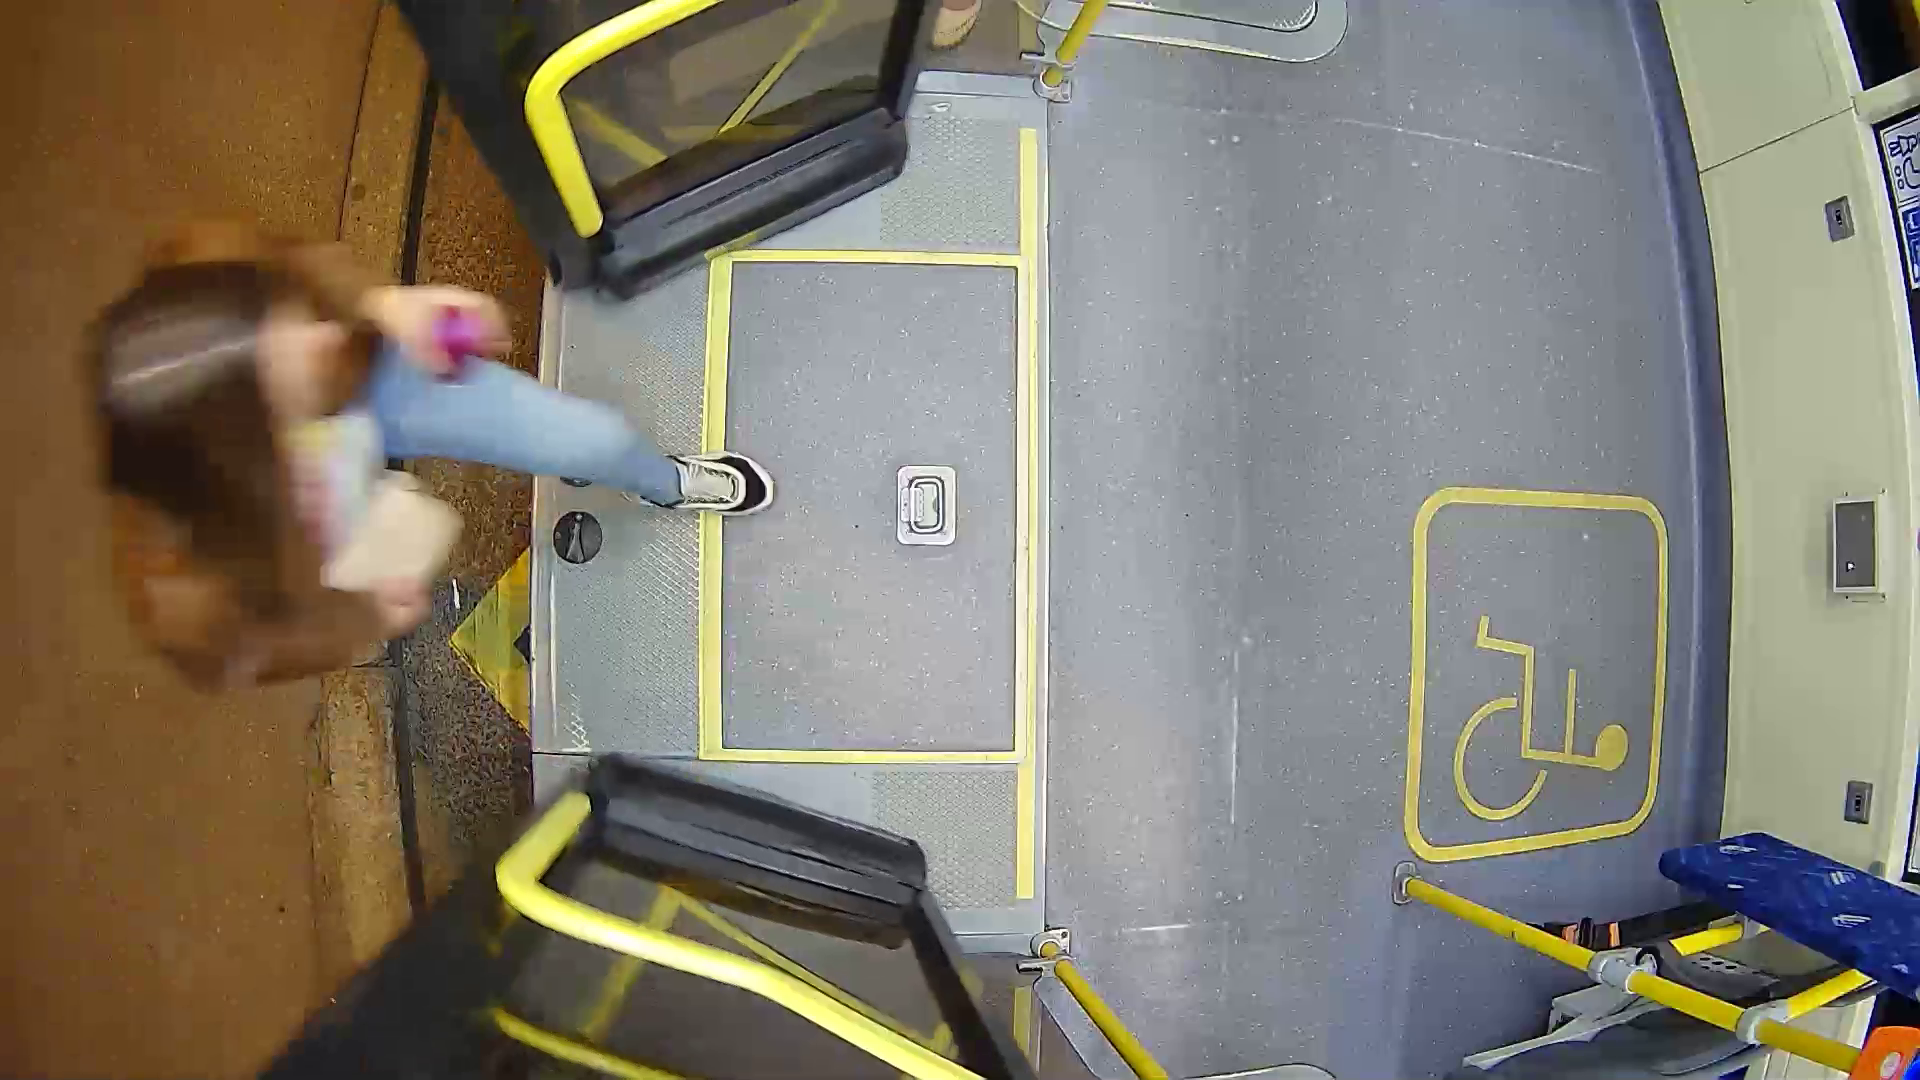person: (92, 197, 832, 713)
